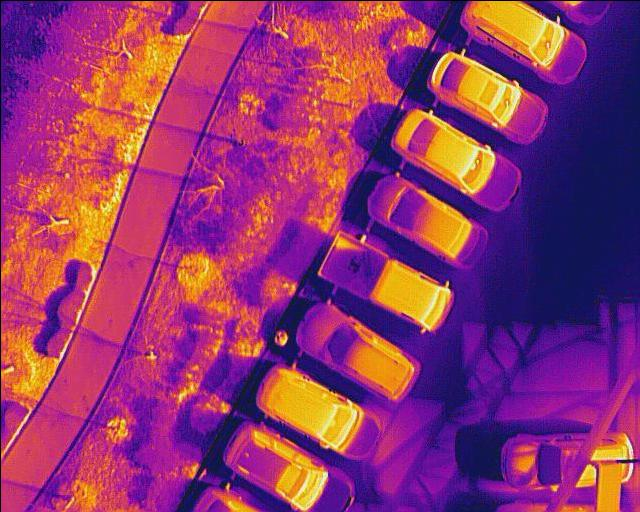No-Anomaly: (594, 465, 621, 512)
